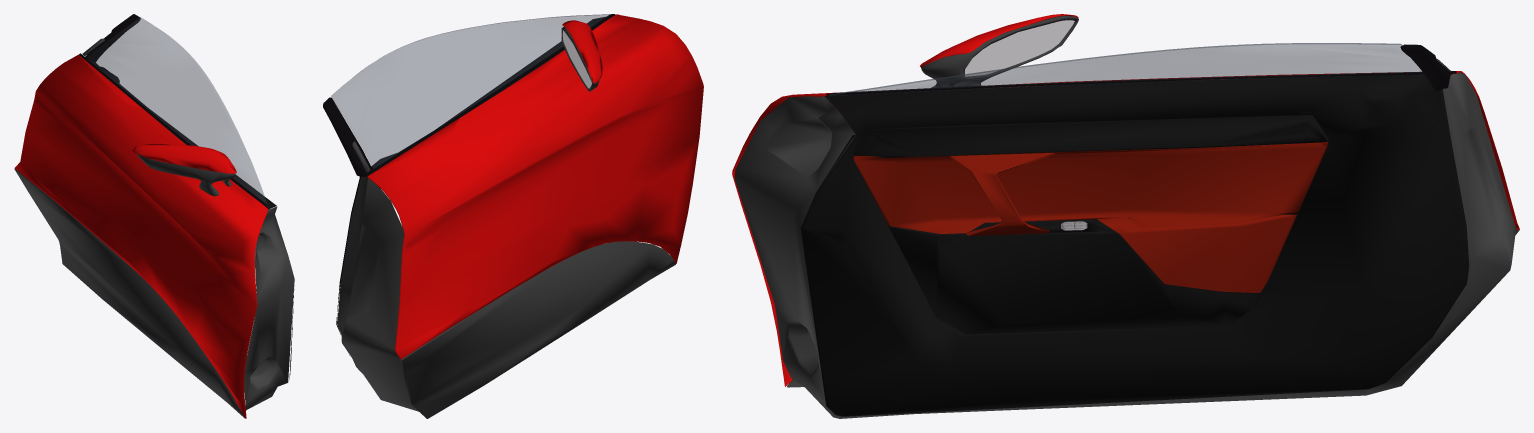
3 renders of one model, left to right at view 1: azimuth 30°, elevation 25°; view 2: azimuth 150°, elevation 25°; view 3: azimuth 270°, elevation 25°, orthographic. The views are drawn at different scales.
Parts seen in each view (by area): view 1: BodyDoorRColor1, BodyDoorRWindow, BodyDoorRColor2, InteriorDoorR01, BodyDoorRHandle01; view 2: BodyDoorRColor1, BodyDoorRColor2, BodyDoorRWindow, InteriorDoorR01, BodyDoorRHandle01, BodyDoorRMirror; view 3: InteriorDoorR01, InteriorDoorR03, BodyDoorRWindow, BodyDoorRColor1, BodyDoorRHandle01, BodyDoorRMirror, BodyDoorRColor2.
Part boxes in pixels (x1,y1,x2,y2): BodyDoorRColor1: (15,54,268,418); BodyDoorRWindow: (87,17,267,206); BodyDoorRColor2: (14,38,244,418); InteriorDoorR01: (90,61,294,410); BodyDoorRHandle01: (79,14,267,207); BodyDoorRColor1: (367,14,703,359); BodyDoorRColor2: (352,26,675,418); BodyDoorRWindow: (331,14,609,168); InteriorDoorR01: (336,15,614,411); BodyDoorRHandle01: (323,14,615,176); BodyDoorRMirror: (562,30,591,88); InteriorDoorR01: (734,72,1516,418); InteriorDoorR03: (853,142,1328,292); BodyDoorRWindow: (829,43,1423,95); BodyDoorRColor1: (732,14,1519,386); BodyDoorRHandle01: (826,44,1456,95); BodyDoorRMirror: (965,20,1074,76); BodyDoorRColor2: (787,16,1519,387).
Size of the model in its own units: 0.4339 by 0.9592 by 1.67.
9 materials, 1 textured.
